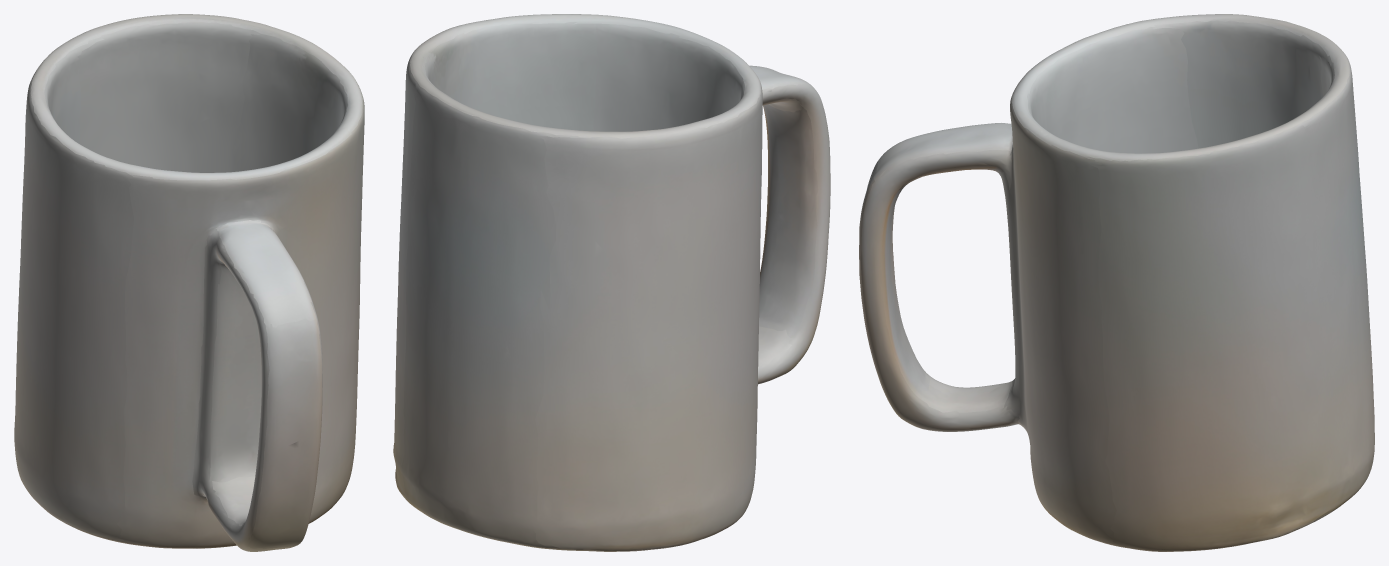
The model's file is iter_1.glb.
3 views of the same model, side by side, from view 1: azimuth 30°, elevation 25°; view 2: azimuth 150°, elevation 25°; view 3: azimuth 270°, elevation 25° (orthographic). The views are drawn at different scales.
Parts seen in each view (by area): view 1: textured_mesh; view 2: textured_mesh; view 3: textured_mesh.
Boxes of the visible parts, x1,y1,x2,y2 form: textured_mesh: (14,14,364,551); textured_mesh: (393,14,830,551); textured_mesh: (859,14,1374,551).
Size of the model in its own units: 1.34 by 1.78 by 1.98.
Materials: 1 (1 with a texture image).
